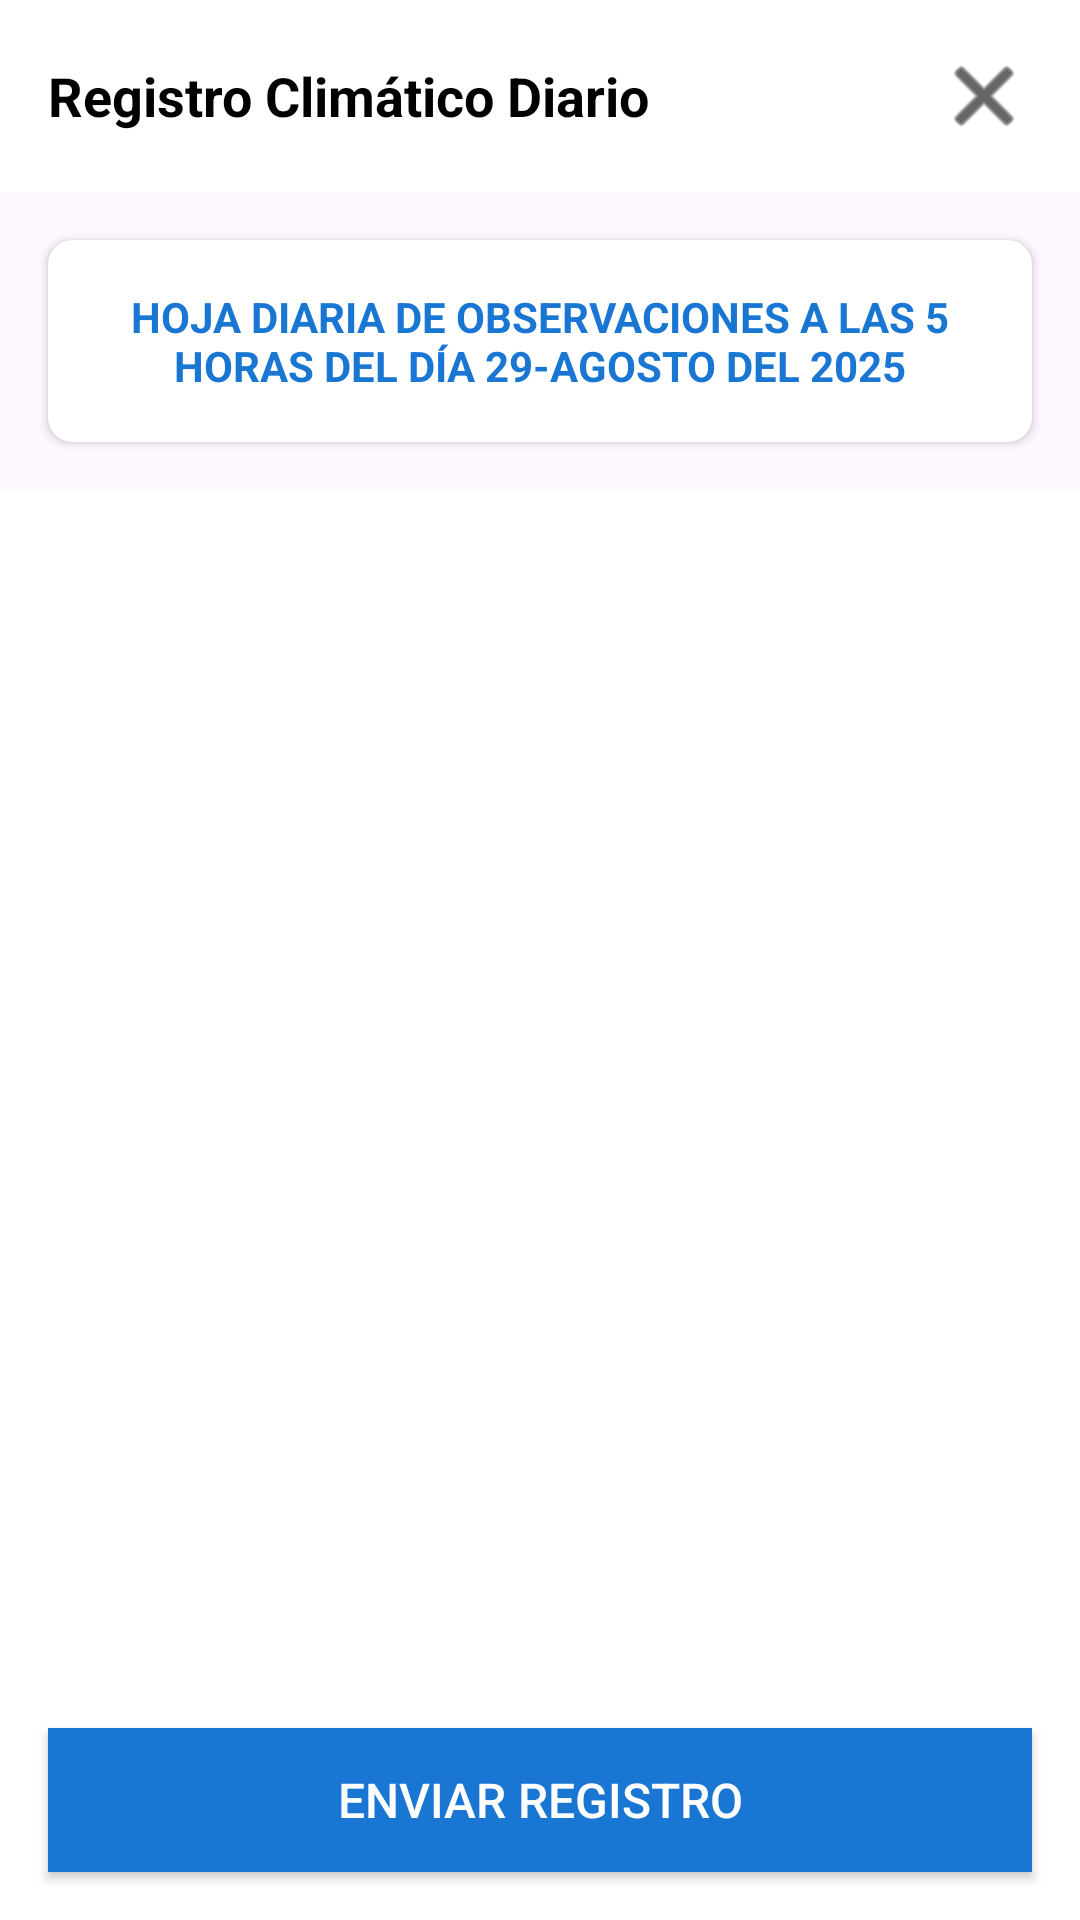

Locate icon controls on the screen. Image size 1080 x 1920, boxes as bbox(x1, y1, x2, y2).
Cerrar formulario: bbox(954, 66, 1014, 126)
